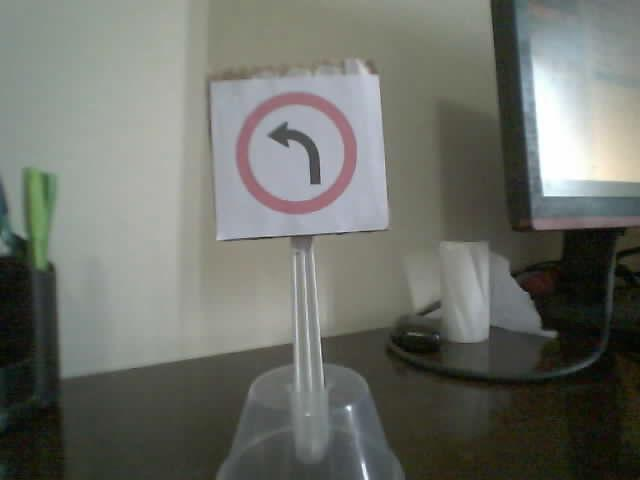R-25a_esquerda: (234, 91, 357, 215)
